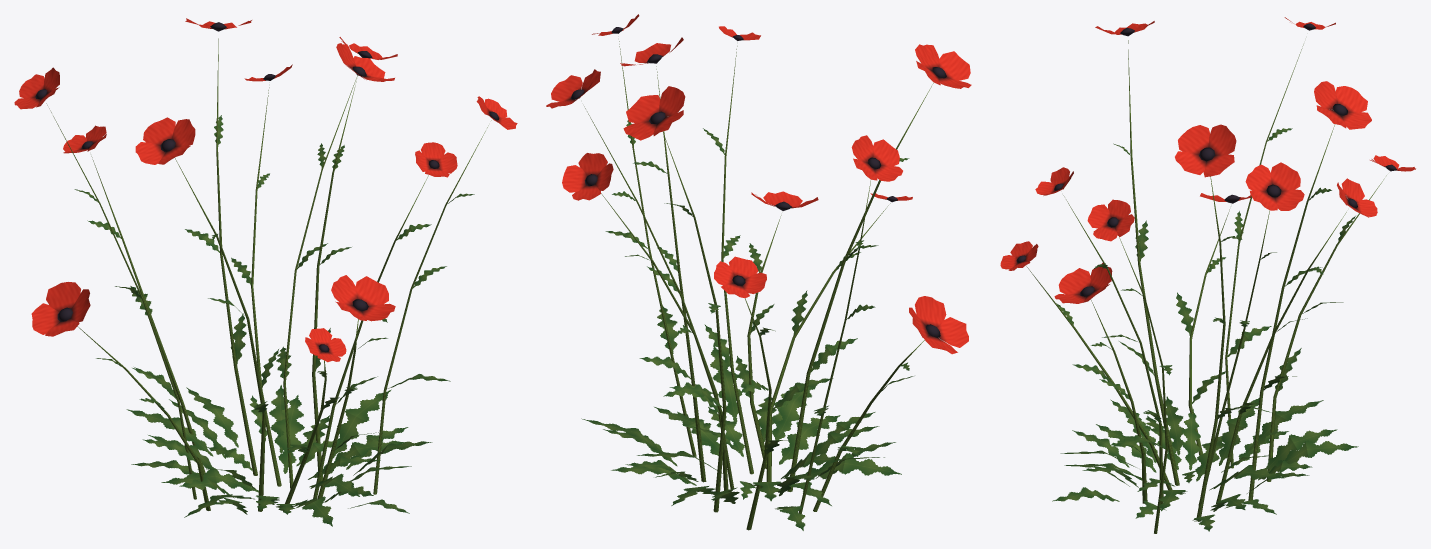
File: common-poppy.glb
3 views of the same model, side by side, from view 1: azimuth 30°, elevation 25°; view 2: azimuth 150°, elevation 25°; view 3: azimuth 270°, elevation 25° (orthographic). The views are drawn at different scales.
Parts seen in each view (by area): view 1: Common Poppy; view 2: Common Poppy; view 3: Common Poppy.
Boxes of the visible parts, x1,y1,x2,y2 form: Common Poppy: (14,18,517,526); Common Poppy: (546,14,971,530); Common Poppy: (1000,17,1415,533).
Bounding box in the file's own units: 0.6756 × 0.6785 × 0.6118.
Materials: 4 (4 with a texture image).
